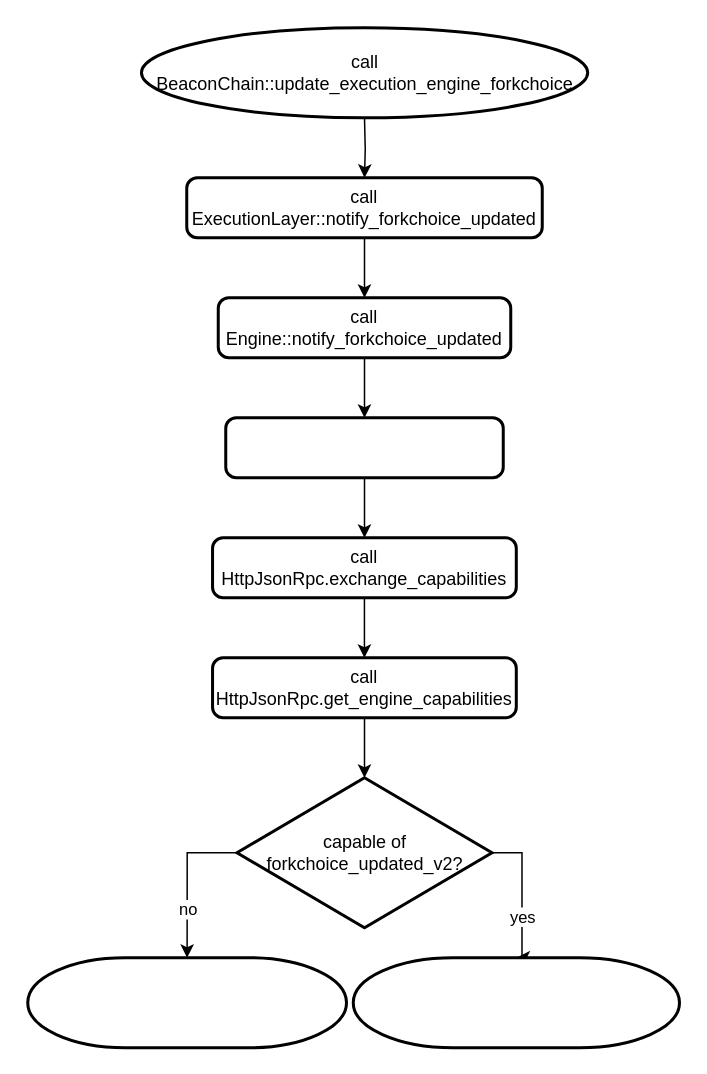
Some shapes in this 707 by 1074 pixel diagram are drawn without their labels. Here are the shapes that lost their labels. From the top down, the centre of each, then its label:
At pixel 364 447: "call HttpJsonRpc::forkchoice_updated".
At pixel 186 1002: "call HttpJsonRpc::forkchoice_updated_v1".
At pixel 515 1002: "call HttpJsonRpc::forkchoice_updated_v2".
